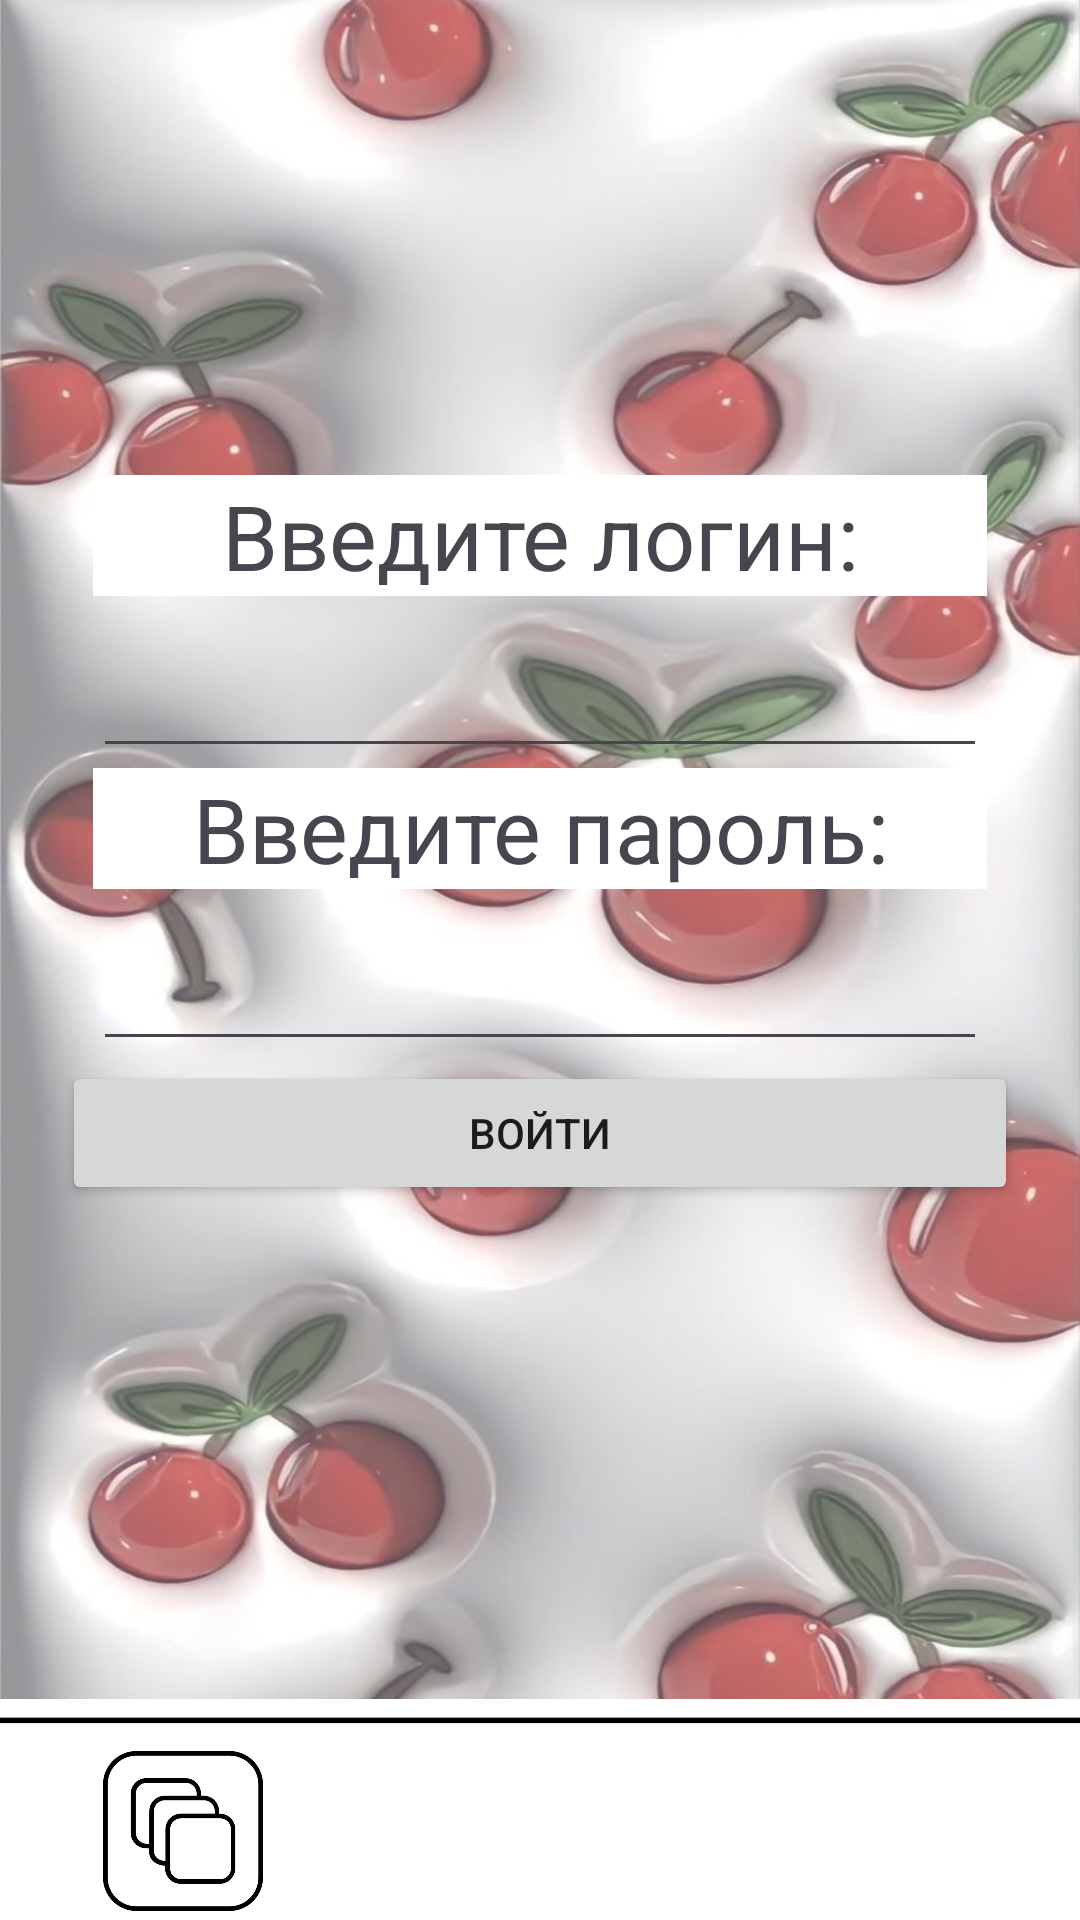

Icons on this 1080w x 1920h Android screen, each with the point to tap as (x=x, y=y):
katalog: (x=183, y=1831)
